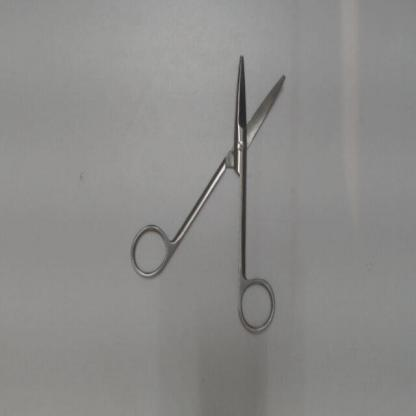Curved Mayo Scissors: (126, 45, 289, 342)
